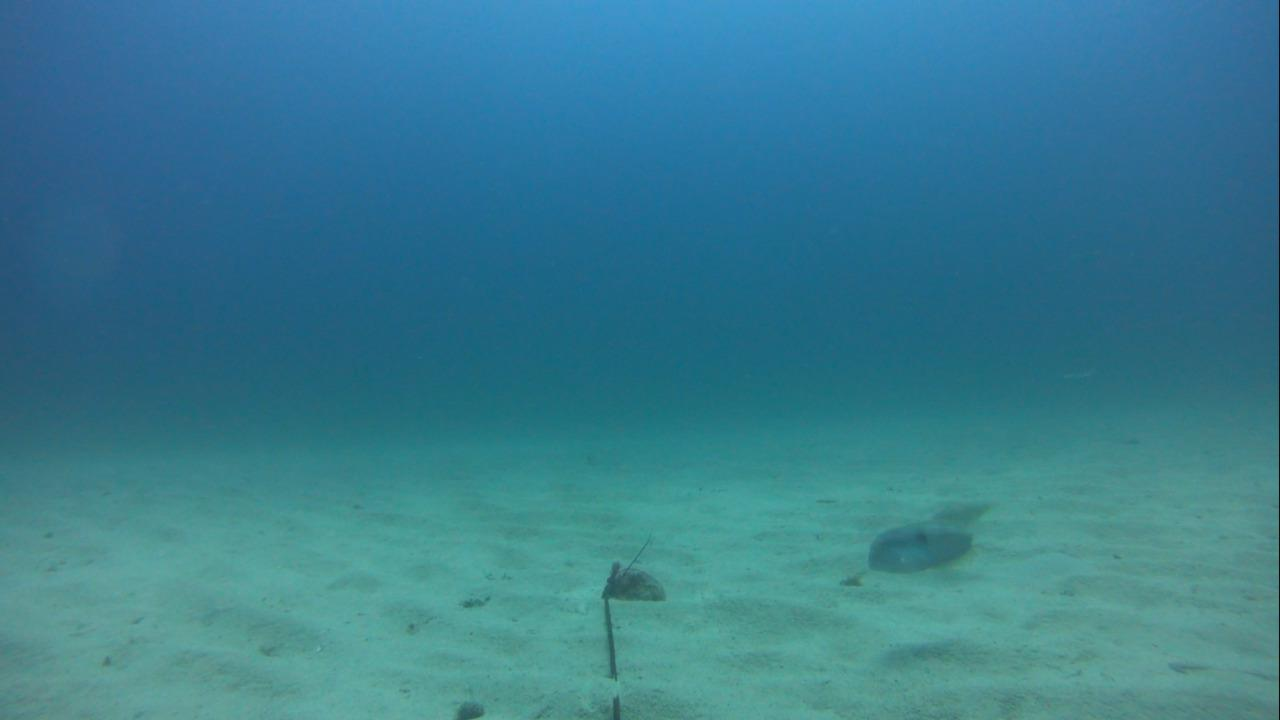raor: (865, 524, 980, 573), (920, 494, 994, 533)
